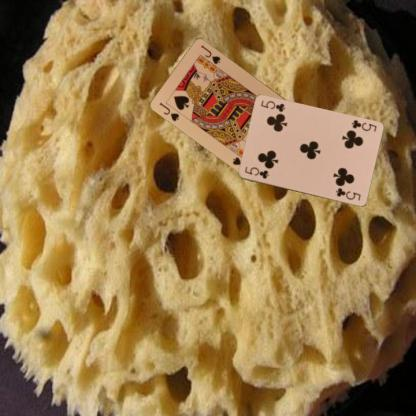5c: (348, 118, 378, 134), (242, 164, 270, 180)
Js: (156, 100, 181, 122)
